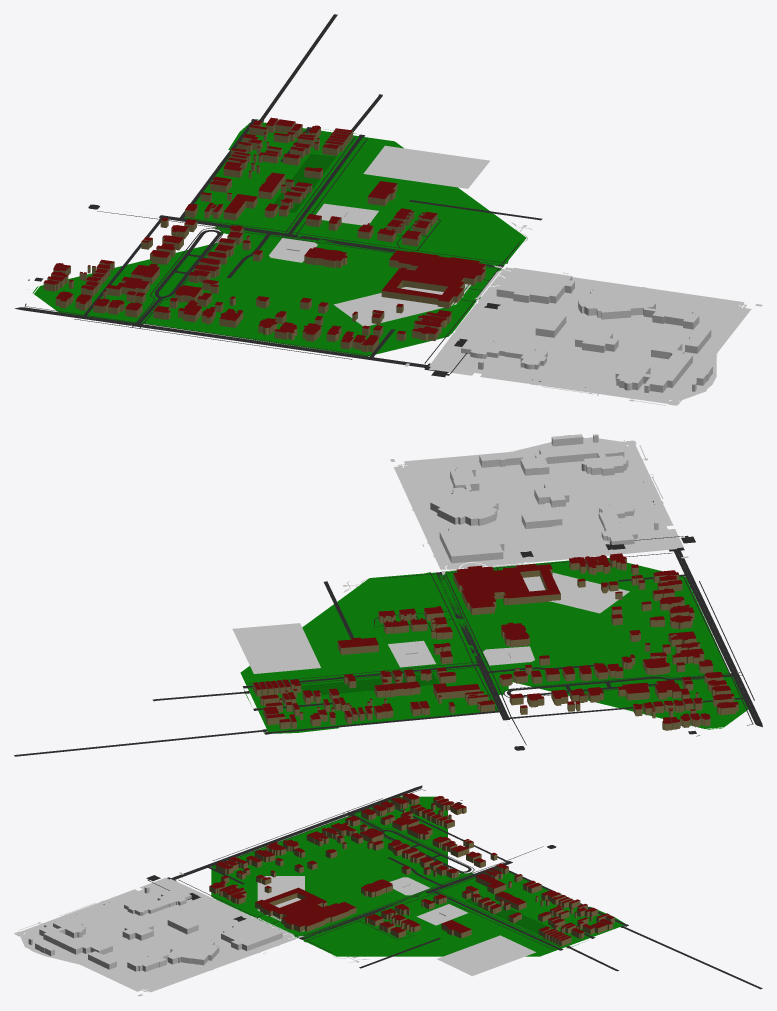
File: WholeDamnCampus 1.obj
3 views of the same model, one above another, from view 1: azimuth 30°, elevation 25°; view 2: azimuth 150°, elevation 25°; view 3: azimuth 270°, elevation 25° (orthographic). The views are drawn at different scales.
Parts seen in each view (by area): view 1: SurfaceArea539, SurfaceArea588, SurfaceArea541, SurfaceArea542, SurfaceArea472, Building_Mitchell_Fine_Arts_Center, Building458, SurfaceArea589, Road_West_3rd_Street, Building576, SurfaceArea540, Building_Clive_M._Beck_Center (+15 smaller); view 2: SurfaceArea539, SurfaceArea588, SurfaceArea541, SurfaceArea542, SurfaceArea472, SurfaceArea589, Building_Mitchell_Fine_Arts_Center, Building458, Building576, Road_West_3rd_Street, SurfaceArea540, Building_Clive_M._Beck_Center (+17 smaller); view 3: SurfaceArea539, SurfaceArea588, SurfaceArea541, SurfaceArea542, SurfaceArea472, Building458, Building_Mitchell_Fine_Arts_Center, Building576, Road_West_3rd_Street, Building_Clive_M._Beck_Center, SurfaceArea589, SurfaceArea540 (+18 smaller).
Boxes of the visible parts, x1=… form: SurfaceArea539: x1=27, y1=224, x2=447, y2=356; SurfaceArea588: x1=429, y1=279, x2=726, y2=400; SurfaceArea541: x1=294, y1=186, x2=526, y2=336; SurfaceArea542: x1=220, y1=119, x2=448, y2=223; SurfaceArea472: x1=363, y1=145, x2=489, y2=188; Building_Mitchell_Fine_Arts_Center: x1=578, y1=286, x2=699, y2=329; Building458: x1=389, y1=250, x2=485, y2=291; SurfaceArea589: x1=333, y1=269, x2=511, y2=326; Road_West_3rd_Street: x1=15, y1=307, x2=669, y2=403; Building576: x1=615, y1=340, x2=692, y2=393; SurfaceArea540: x1=184, y1=170, x2=293, y2=236; Building_Clive_M._Beck_Center: x1=496, y1=267, x2=574, y2=303; SurfaceArea539: x1=456, y1=557, x2=748, y2=729; SurfaceArea588: x1=411, y1=437, x2=677, y2=564; SurfaceArea541: x1=302, y1=560, x2=587, y2=668; SurfaceArea542: x1=240, y1=631, x2=455, y2=733; SurfaceArea472: x1=232, y1=623, x2=320, y2=673; SurfaceArea589: x1=433, y1=543, x2=629, y2=613; Building_Mitchell_Fine_Arts_Center: x1=430, y1=465, x2=498, y2=525; Building458: x1=453, y1=565, x2=529, y2=615; Building576: x1=520, y1=444, x2=628, y2=475; Road_West_3rd_Street: x1=628, y1=445, x2=762, y2=727; SurfaceArea540: x1=383, y1=668, x2=512, y2=721; Building_Clive_M._Beck_Center: x1=439, y1=527, x2=504, y2=563; SurfaceArea539: x1=211, y1=796, x2=447, y2=896; SurfaceArea588: x1=20, y1=879, x2=257, y2=975; SurfaceArea541: x1=211, y1=896, x2=447, y2=956; SurfaceArea542: x1=448, y1=896, x2=626, y2=956; SurfaceArea472: x1=437, y1=935, x2=535, y2=976; Building458: x1=280, y1=897, x2=356, y2=932; Building_Mitchell_Fine_Arts_Center: x1=127, y1=937, x2=219, y2=971; Building576: x1=39, y1=919, x2=112, y2=954; Road_West_3rd_Street: x1=20, y1=785, x2=422, y2=933; Building_Clive_M._Beck_Center: x1=221, y1=919, x2=282, y2=950; SurfaceArea589: x1=257, y1=876, x2=304, y2=950; SurfaceArea540: x1=448, y1=869, x2=548, y2=896.
Size of the model in its own units: 634 by 60.34 by 948.
